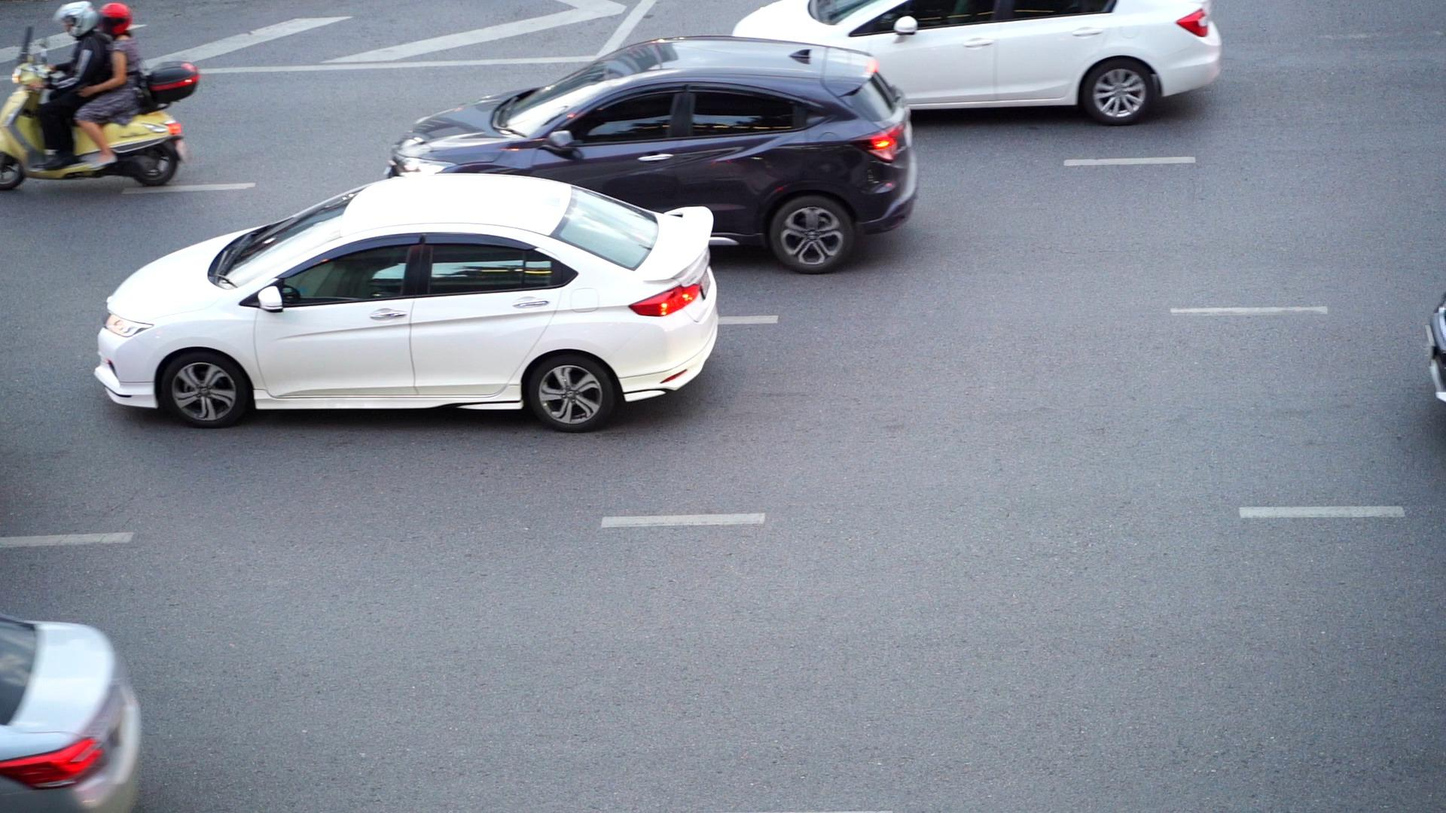driver: (0, 1, 199, 190)
helmet: (51, 0, 99, 38), (99, 1, 132, 37)
